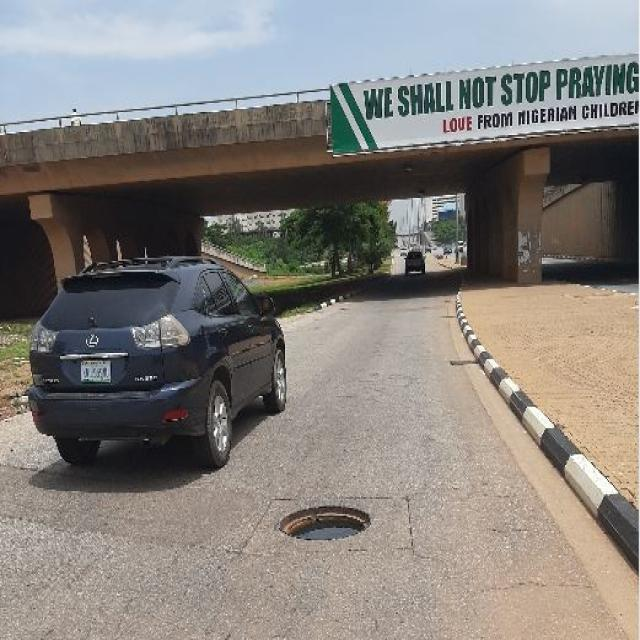Car: (28, 258, 285, 469)
